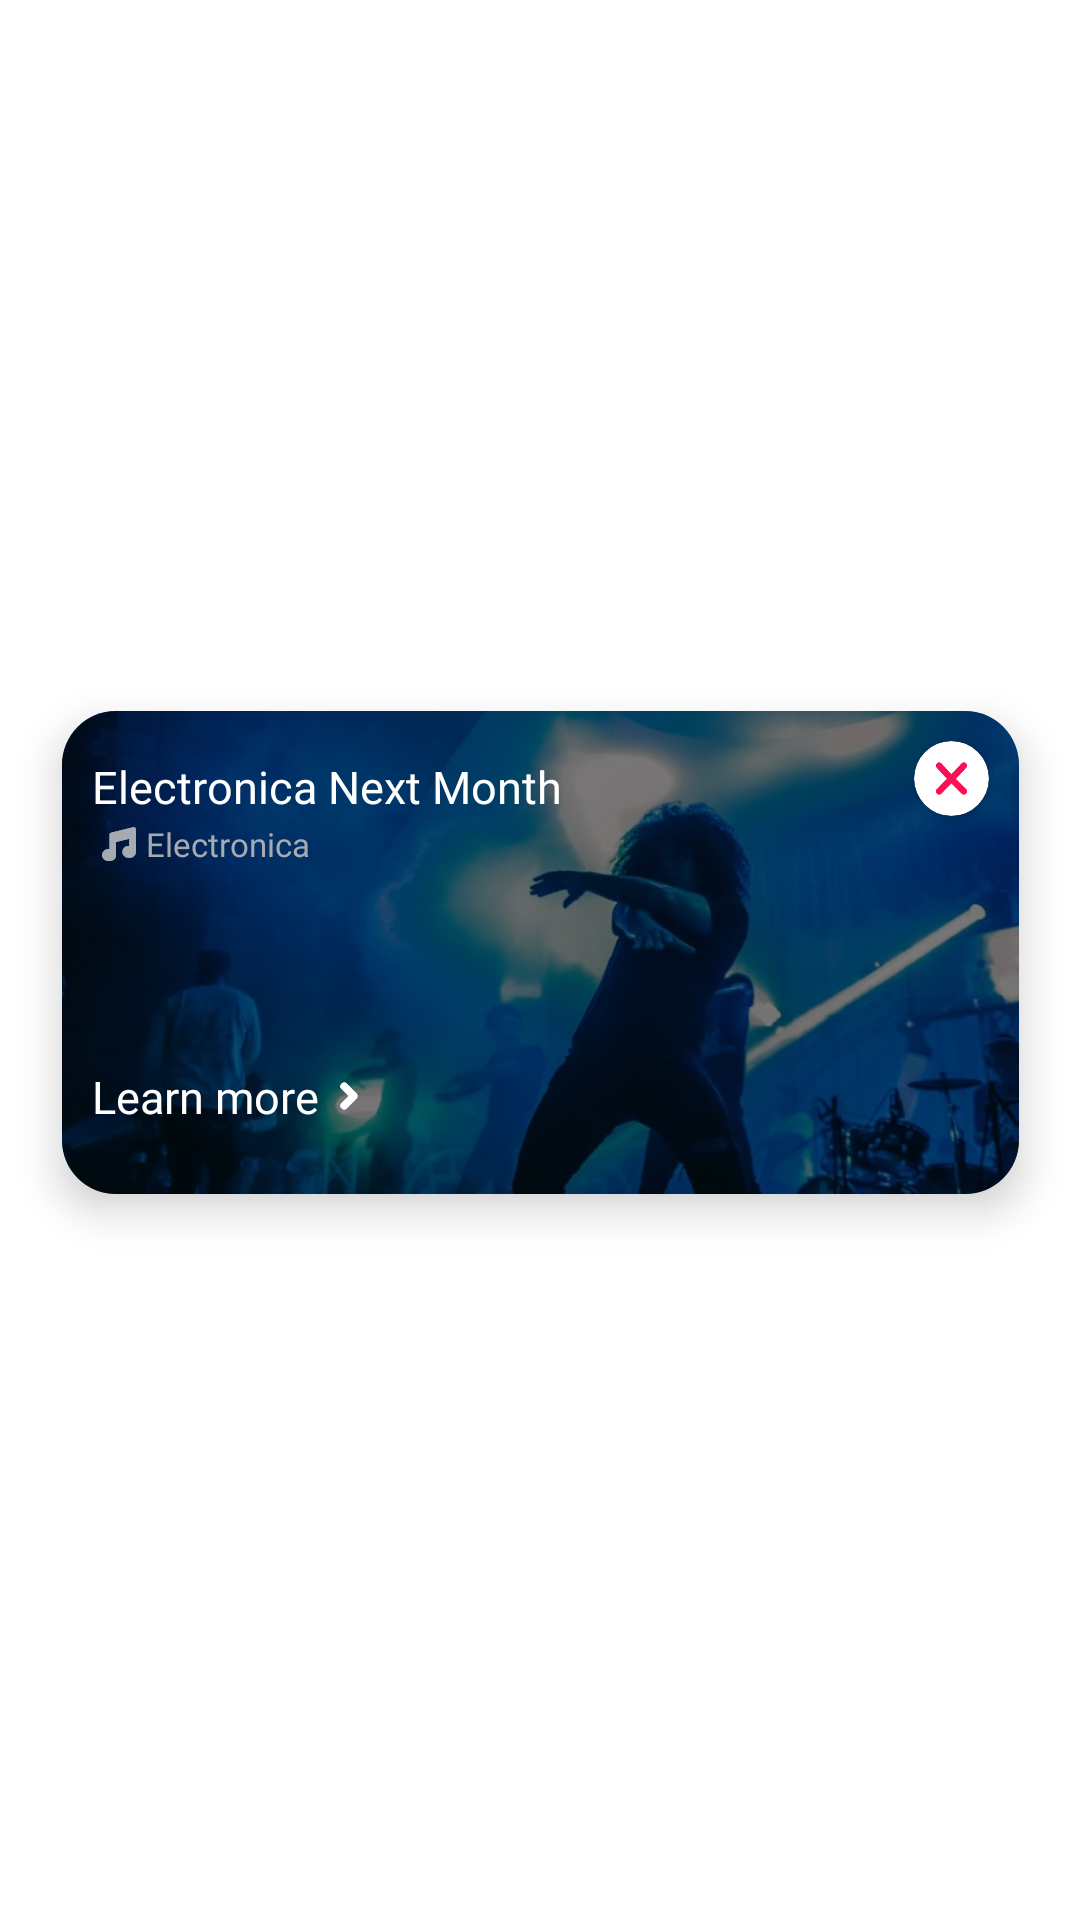

Icon click points for this 1080 x 1920 phone screenshot, format point (x, y):
misc cancel: point (951, 778)
tags music: point (119, 844)
